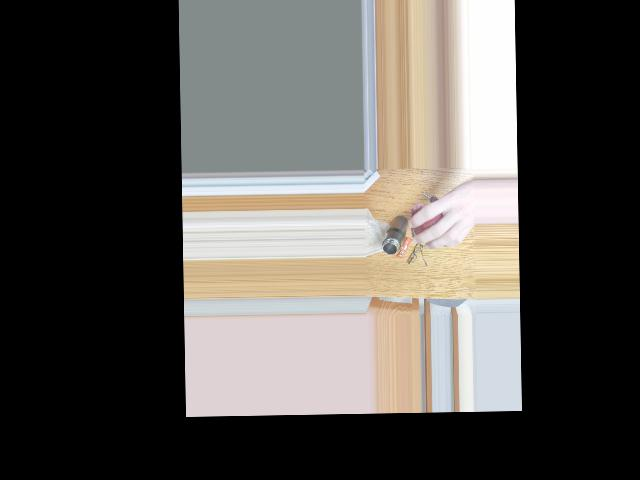onion: (417, 203, 450, 243)
